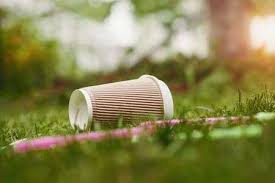cup: (66, 74, 176, 133)
